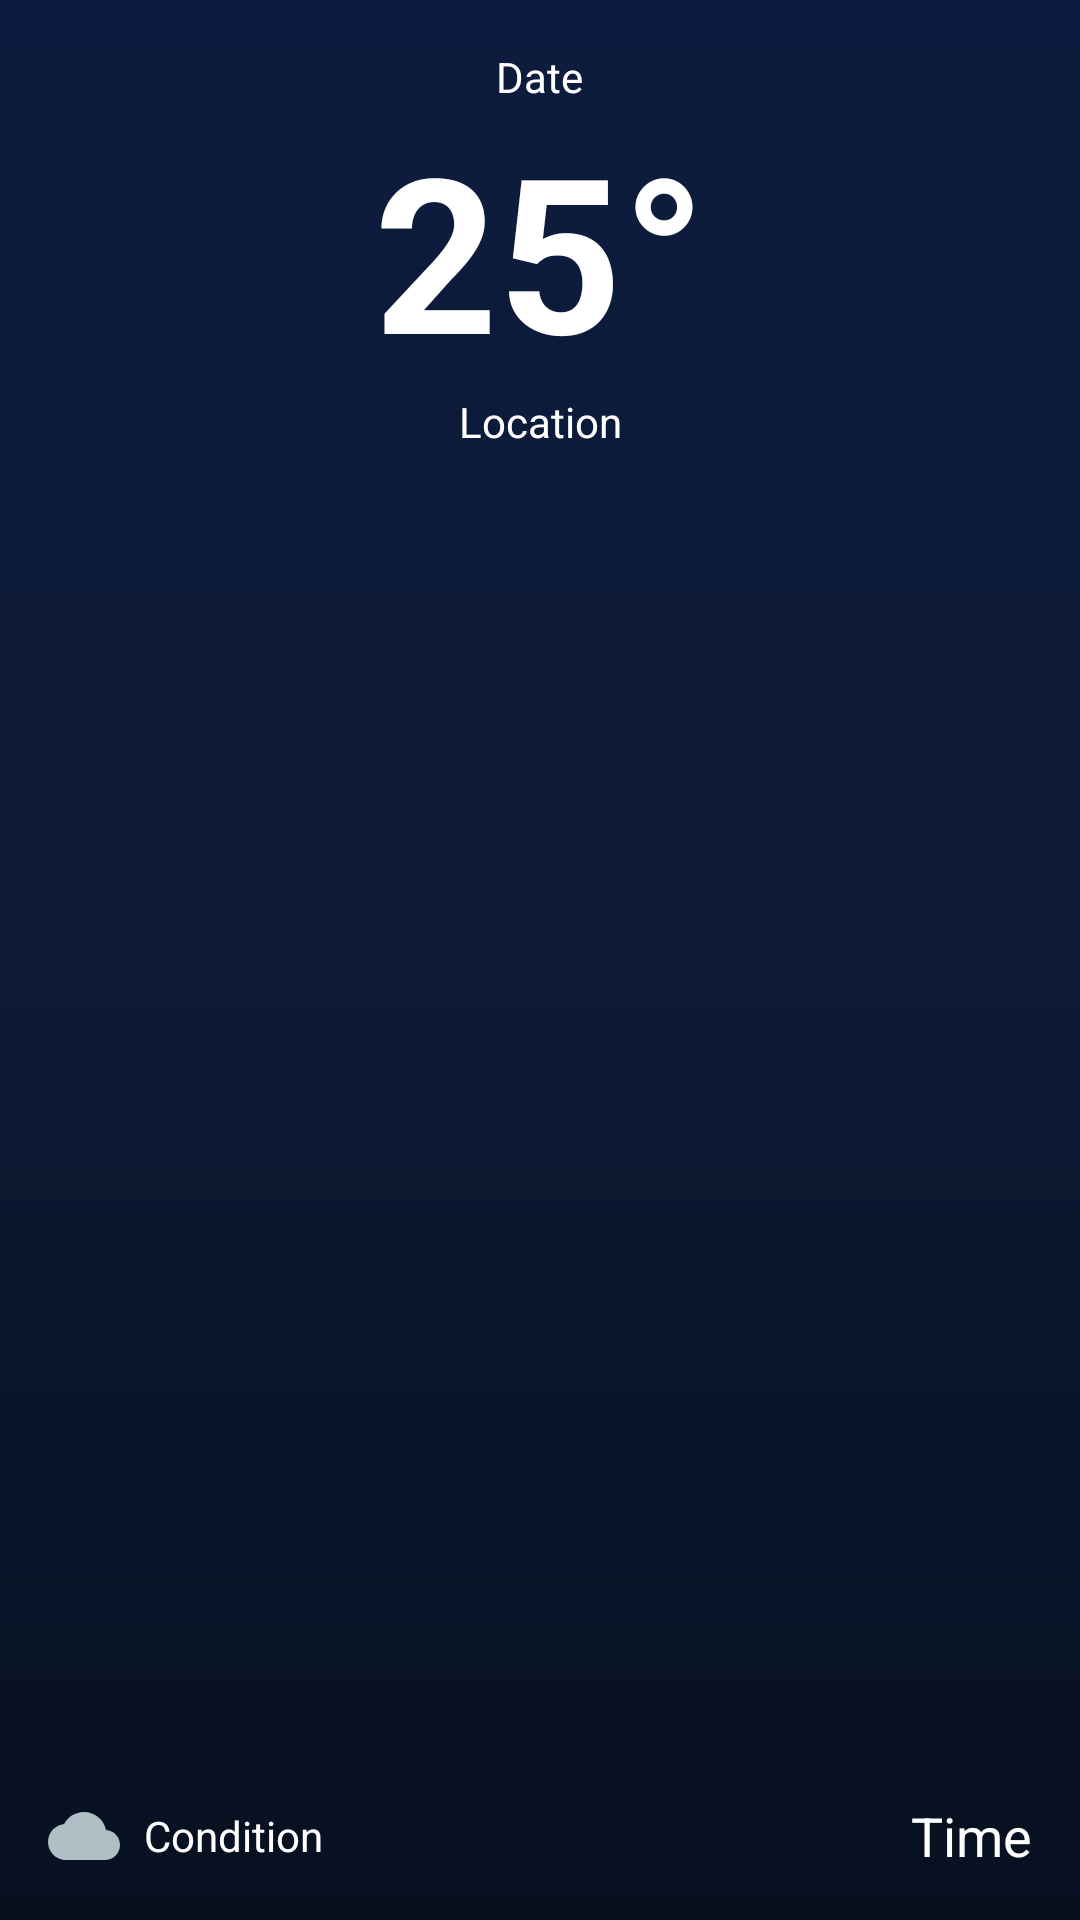

Icon click points for this 1080px×1920px phone screenshot, format (x,y):
cloudy: (84,1836)
